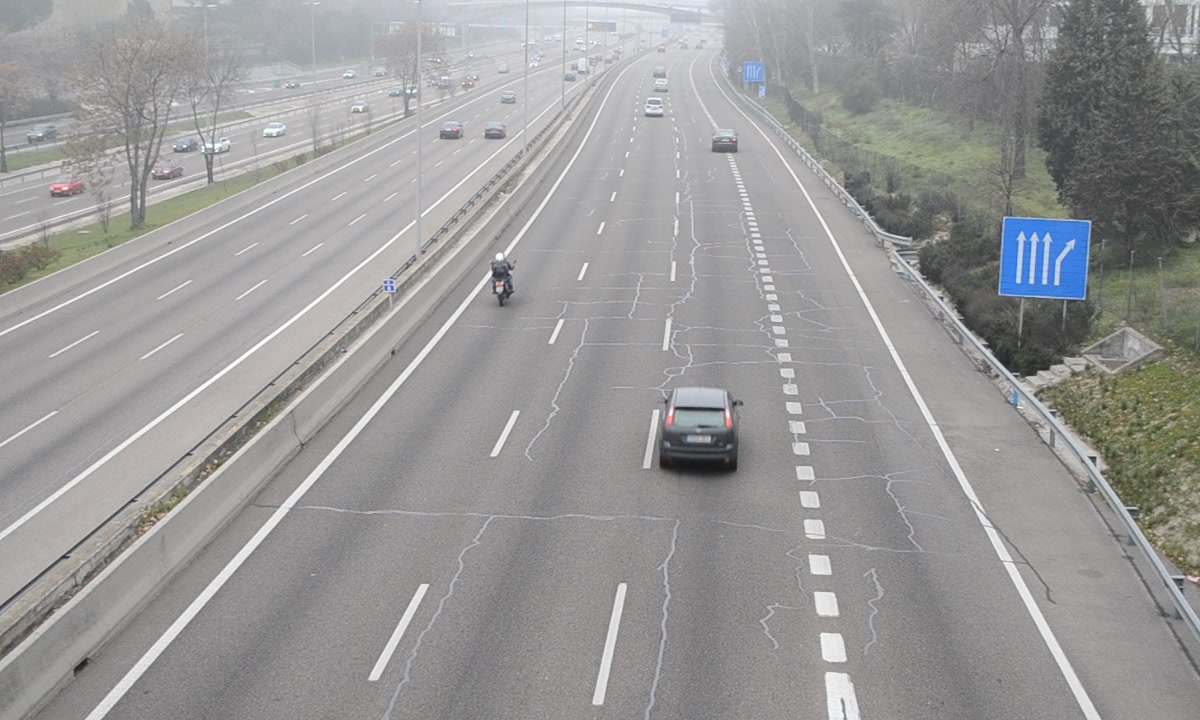car: (659, 386, 737, 468), (712, 130, 737, 152), (645, 97, 664, 118)
motorcycle: (487, 253, 517, 311)
